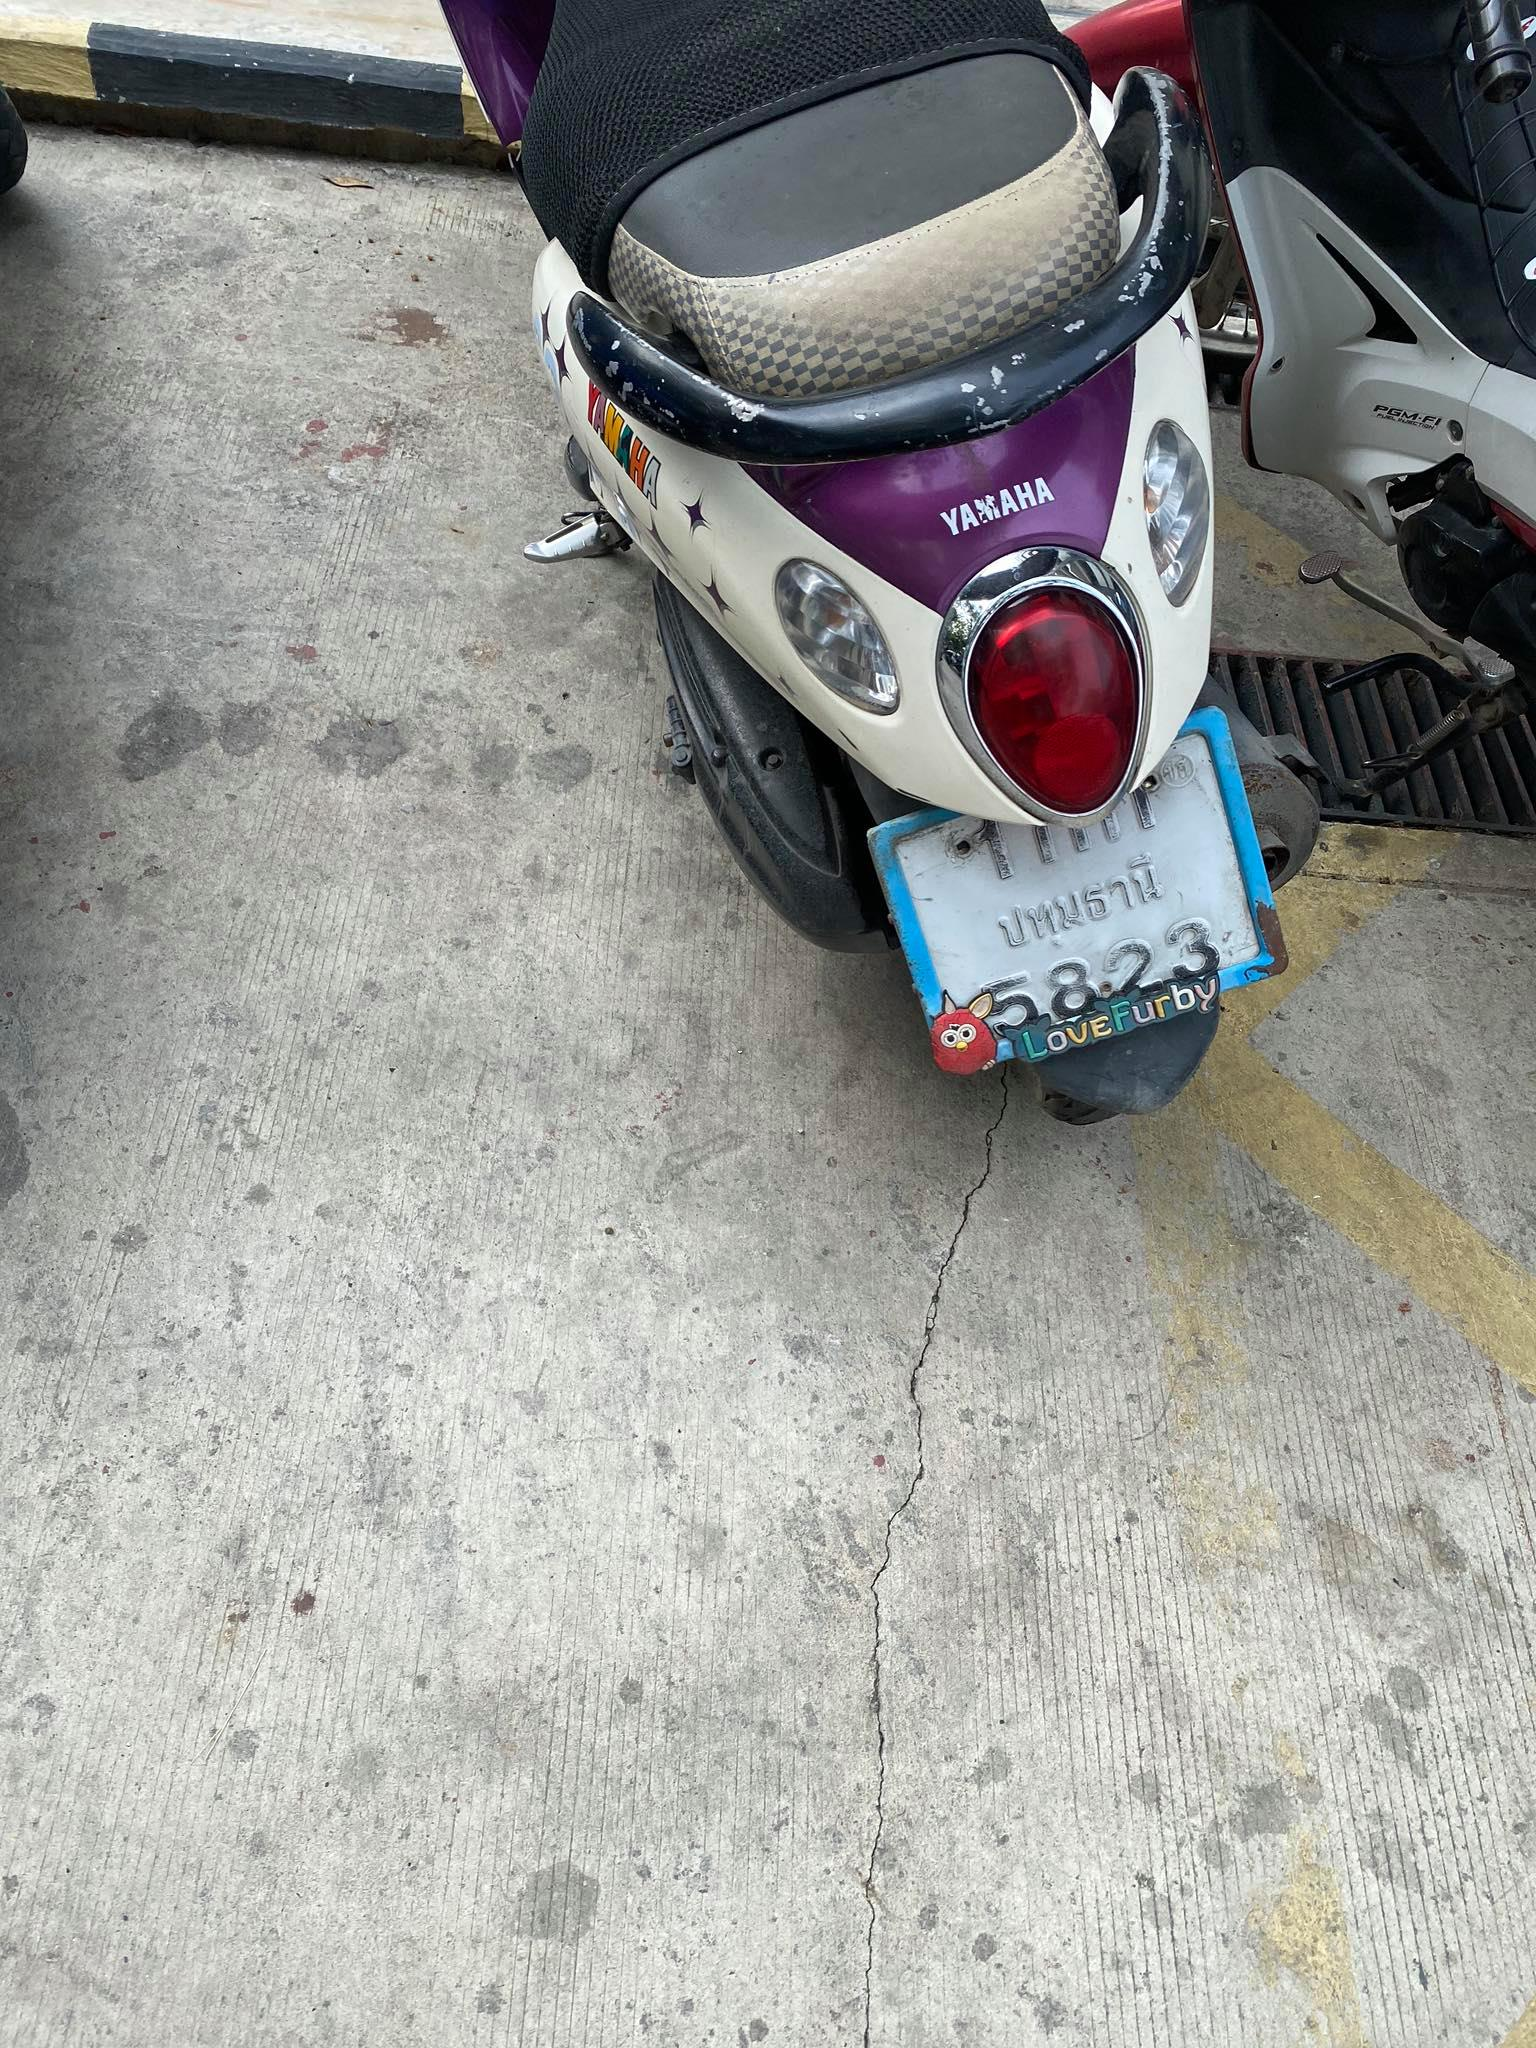line1: (921, 758, 1167, 877)
line2: (971, 858, 1197, 945)
line3: (960, 934, 1244, 1021)
